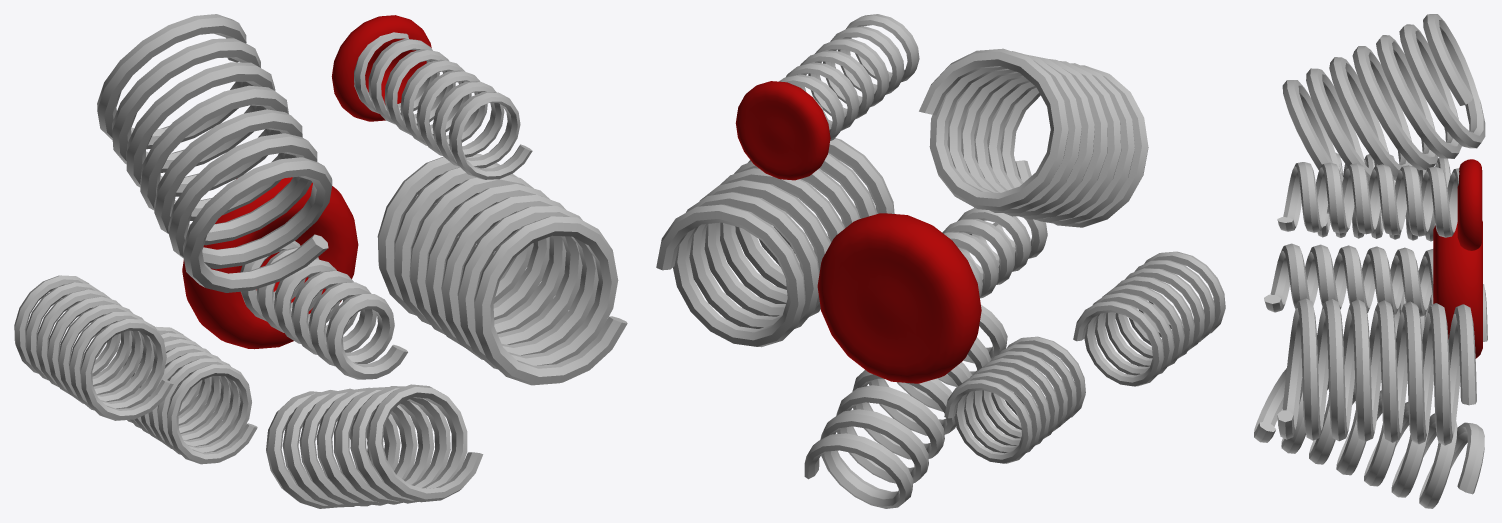
The model's file is power_up_spring.fbx.
3 views of the same model, side by side, from view 1: azimuth 30°, elevation 25°; view 2: azimuth 150°, elevation 25°; view 3: azimuth 270°, elevation 25° (orthographic). The views are drawn at different scales.
Parts seen in each view (by area): view 1: spring4, spring2, spring5, spring7, spring1, spring3, spring6, polySurface20, polySurface17; view 2: spring2, spring4, polySurface20, spring5, spring7, spring6, spring1, polySurface17, spring3; view 3: spring4, spring2, spring1, spring5, spring3, polySurface20, polySurface17, spring7, spring6.
Boxes of the visible parts, x1,y1,x2,y2 form: spring4: (377,154,627,385); spring2: (97,14,332,292); spring5: (266,384,483,508); spring7: (14,275,173,420); spring1: (354,32,532,179); spring3: (240,241,407,379); spring6: (112,326,257,464); polySurface20: (182,177,358,349); polySurface17: (331,15,431,121); spring2: (919,48,1148,227); spring4: (656,138,894,347); polySurface20: (817,213,981,383); spring5: (804,304,1007,508); spring7: (1073,251,1225,386); spring6: (944,336,1085,463); spring1: (779,14,919,140); polySurface17: (735,81,830,180); spring3: (942,207,1047,298); spring4: (1277,298,1476,445); spring2: (1282,14,1485,213); spring1: (1277,162,1459,237); spring5: (1254,368,1484,508); spring3: (1264,243,1433,316); polySurface20: (1433,221,1482,358); polySurface17: (1457,159,1482,250); spring7: (1317,152,1450,241); spring6: (1393,284,1487,341).
Bounding box in the file's own units: 0.499 × 0.474 × 0.2352.
